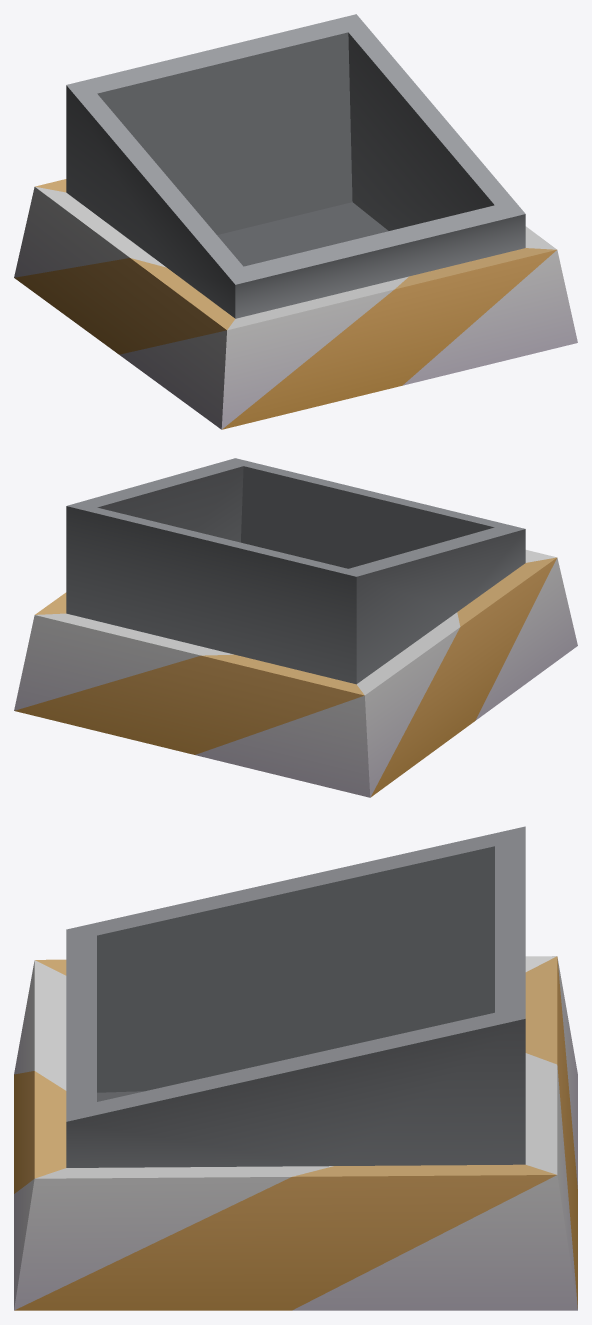
File: garyCannonBox.glb
3 renders of one model, top to bottom at view 1: azimuth 30°, elevation 25°; view 2: azimuth 150°, elevation 25°; view 3: azimuth 270°, elevation 25°, orthographic. The views are drawn at different scales.
Parts seen in each view (by area): view 1: garyCannonBox; view 2: garyCannonBox; view 3: garyCannonBox.
Boxes of the visible parts, bbox=[...] form: garyCannonBox: bbox=[14, 14, 577, 429]; garyCannonBox: bbox=[14, 458, 577, 797]; garyCannonBox: bbox=[14, 826, 577, 1310].
Size of the model in its own units: 0.8401 by 0.4481 by 0.8482.
